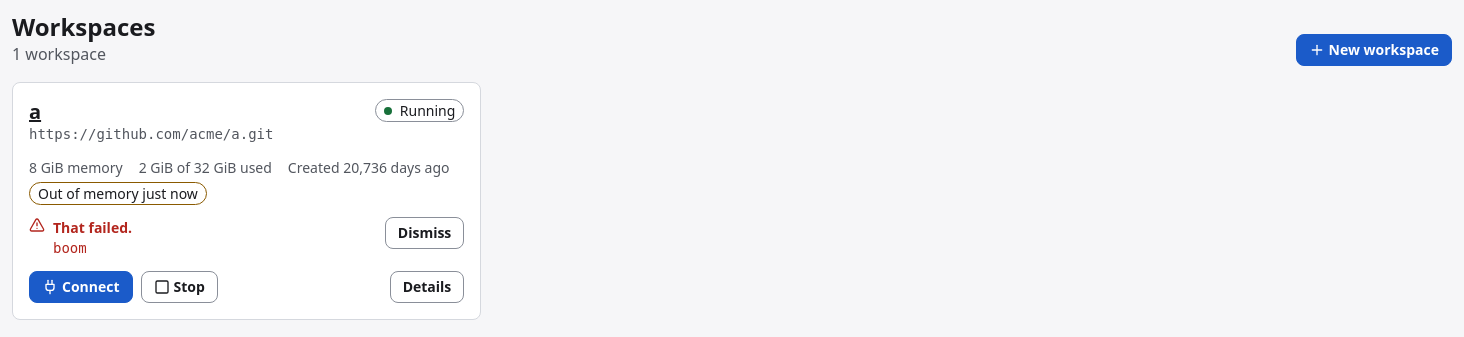
it: the workspace list › shows the out-of-memory flag and a failure with a Dismiss
Expected: the text "Out of memory just now" is shown, [29, 182, 207, 205]
What coordinates should you click on to do the following:
click the button "Dismiss"
I would click on:
 (425, 233)
Its box is [385, 217, 464, 249].
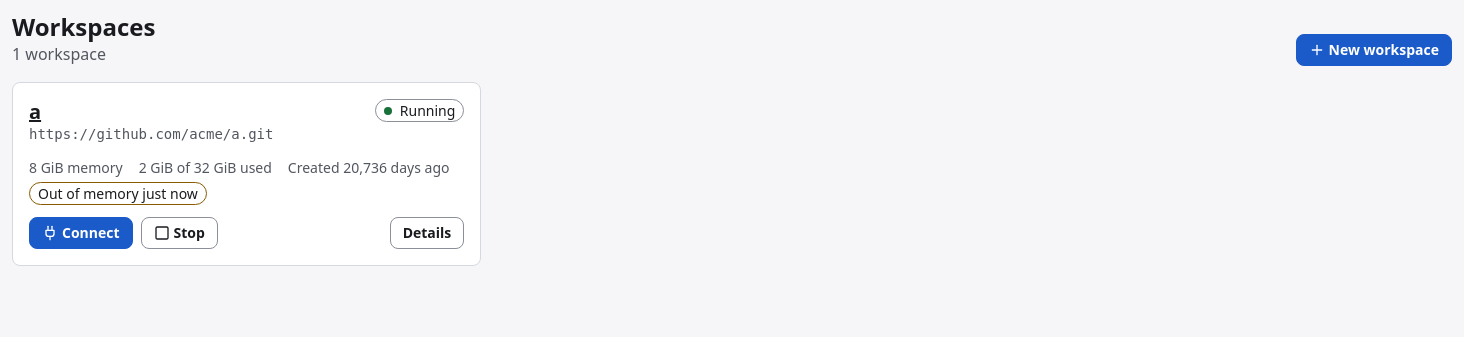
Expected: the message "That failed. boom Dismiss" is gone
